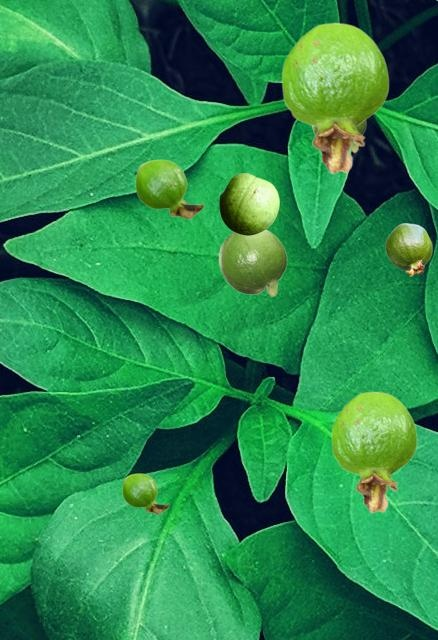guava: (281, 22, 388, 173), (331, 391, 416, 512), (218, 230, 286, 296), (135, 159, 203, 218), (219, 173, 278, 234), (385, 223, 431, 275), (122, 473, 168, 513), (311, 121, 365, 152)
